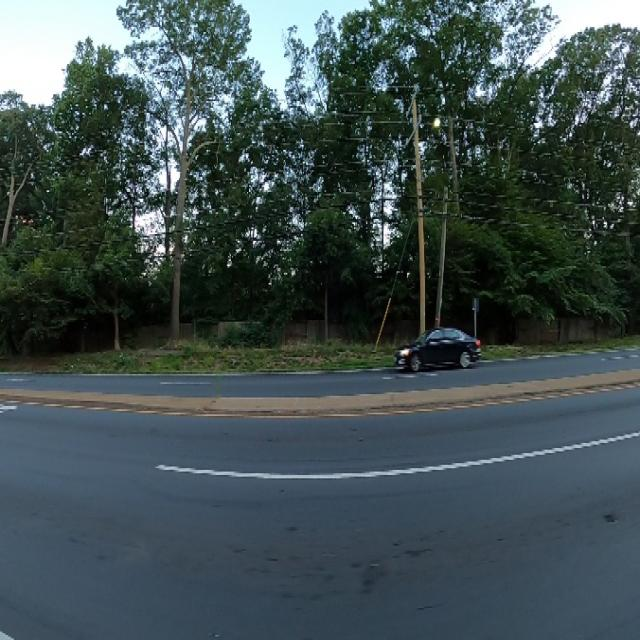car: (388, 325, 489, 379)
